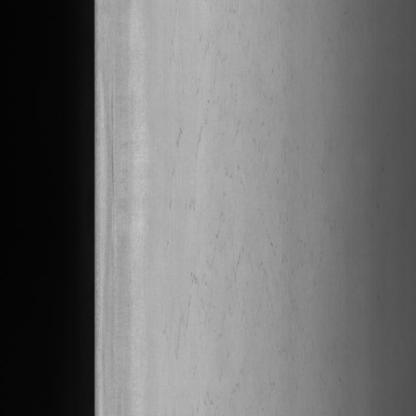silk_spot: (164, 38, 269, 358)
